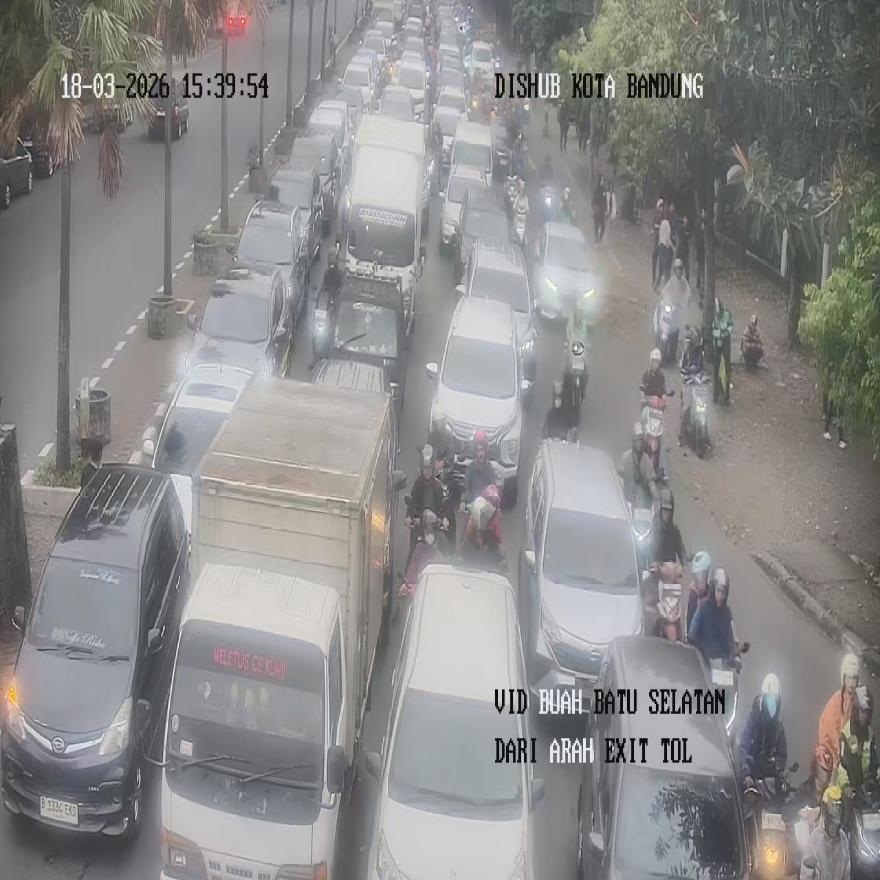Mobil: (0, 465, 188, 837), (362, 564, 544, 876), (574, 636, 749, 878), (520, 435, 644, 716), (426, 292, 528, 507), (146, 358, 252, 554), (182, 260, 292, 379), (456, 238, 537, 382)
Motor: (743, 761, 799, 880), (704, 642, 748, 749), (457, 483, 506, 570), (843, 782, 880, 878), (643, 558, 683, 641), (679, 375, 710, 457), (640, 392, 668, 479), (563, 341, 588, 425), (710, 325, 732, 406), (654, 302, 679, 368), (742, 313, 764, 370), (512, 193, 529, 246), (539, 185, 558, 221)
